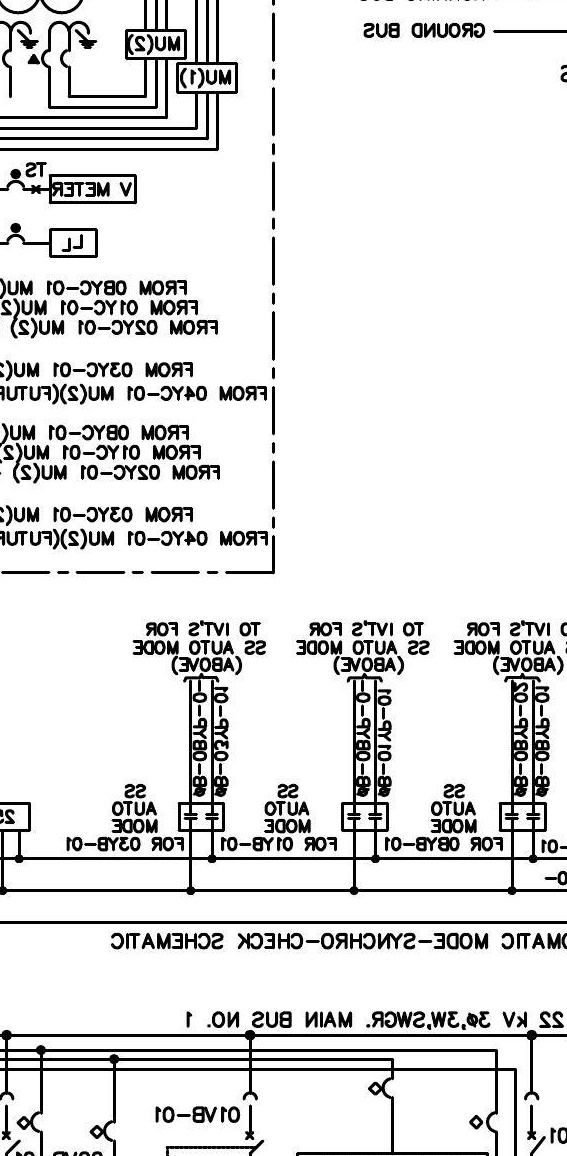LL: (48, 227, 99, 259)
MU: (175, 61, 239, 95), (124, 28, 188, 61)
v_m_digital: (48, 173, 138, 205)
